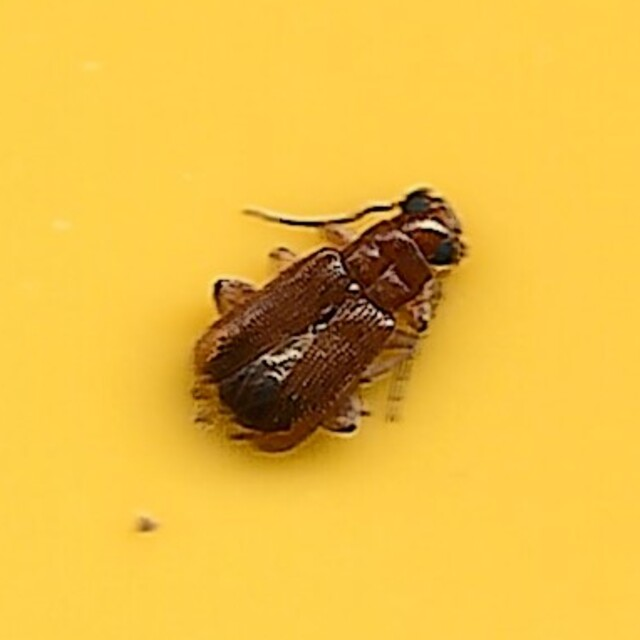Coleoptera: (168, 171, 472, 469)
